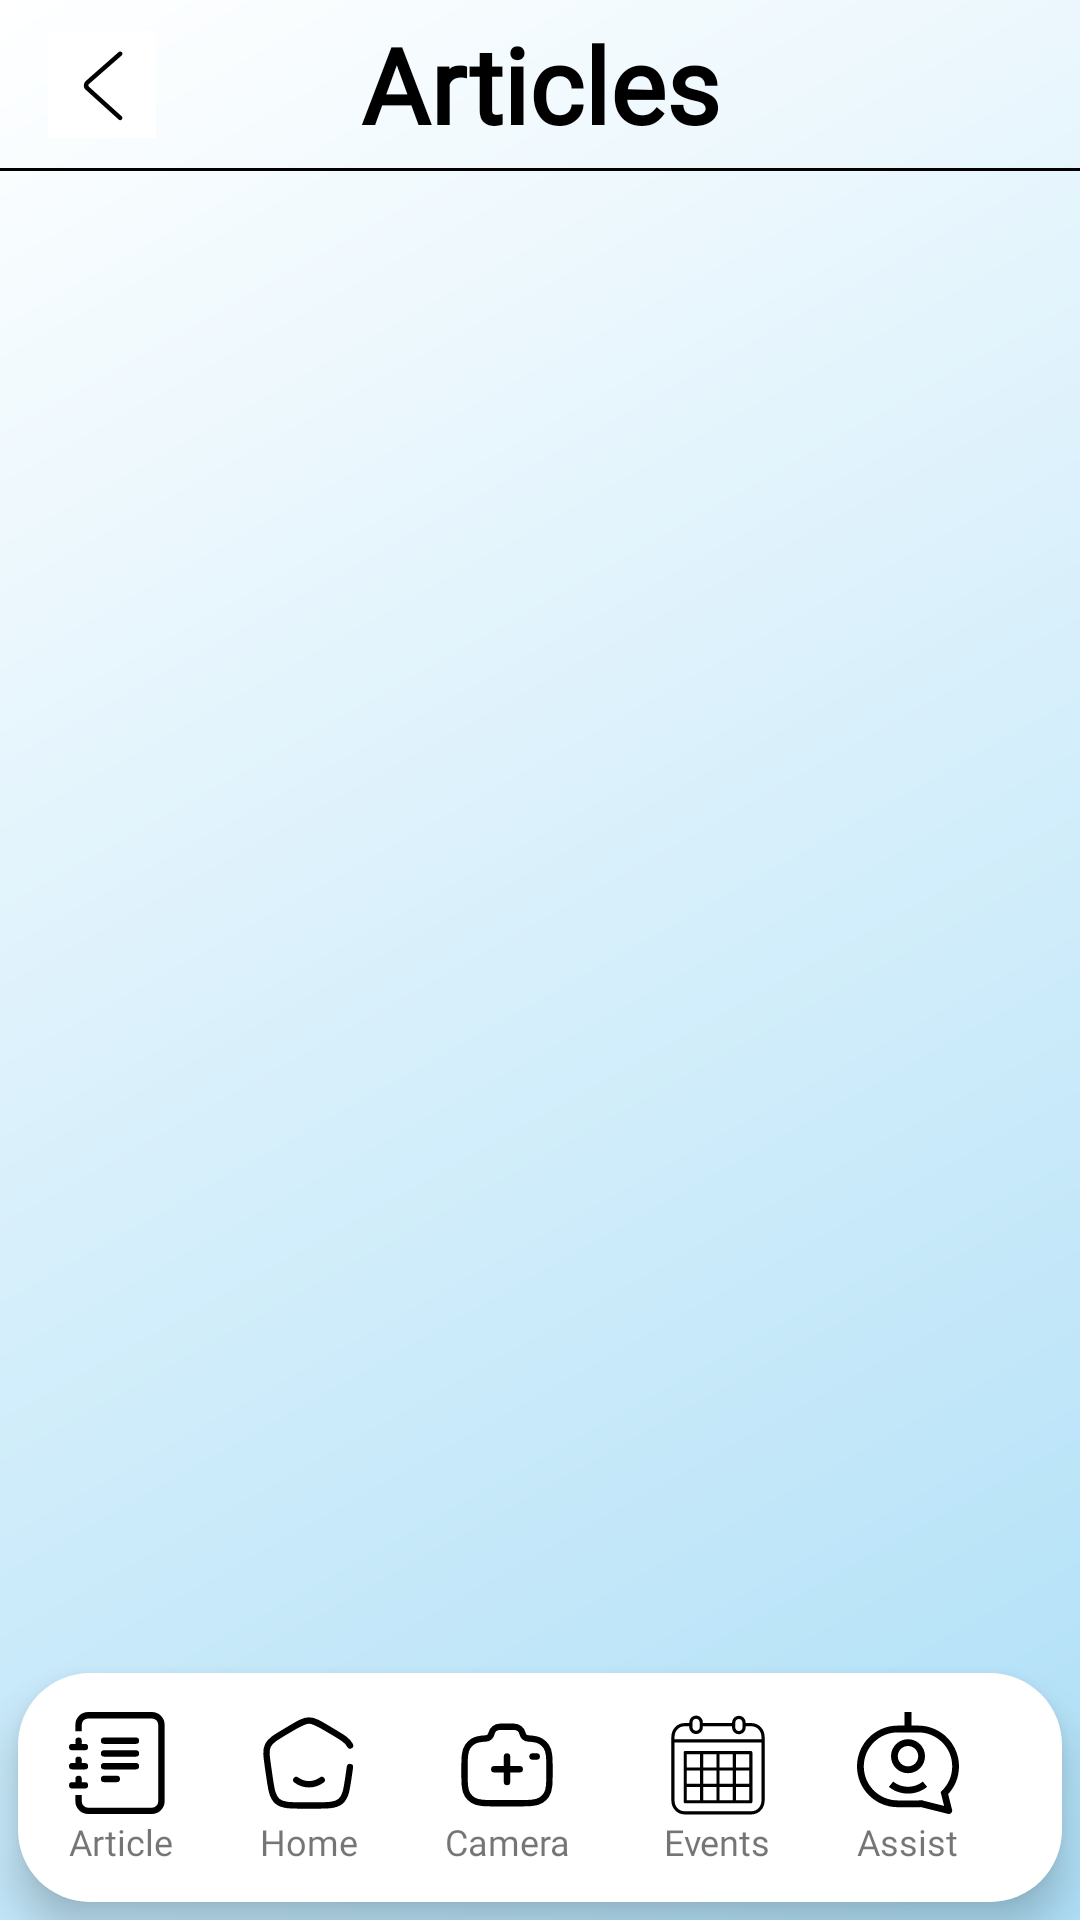

Locate icon controls on the screen. Image size 1080*1920, boxes as (x1, y1, x2, y2).
back: (83, 51, 123, 121)
chatbot: (857, 1712, 959, 1814)
